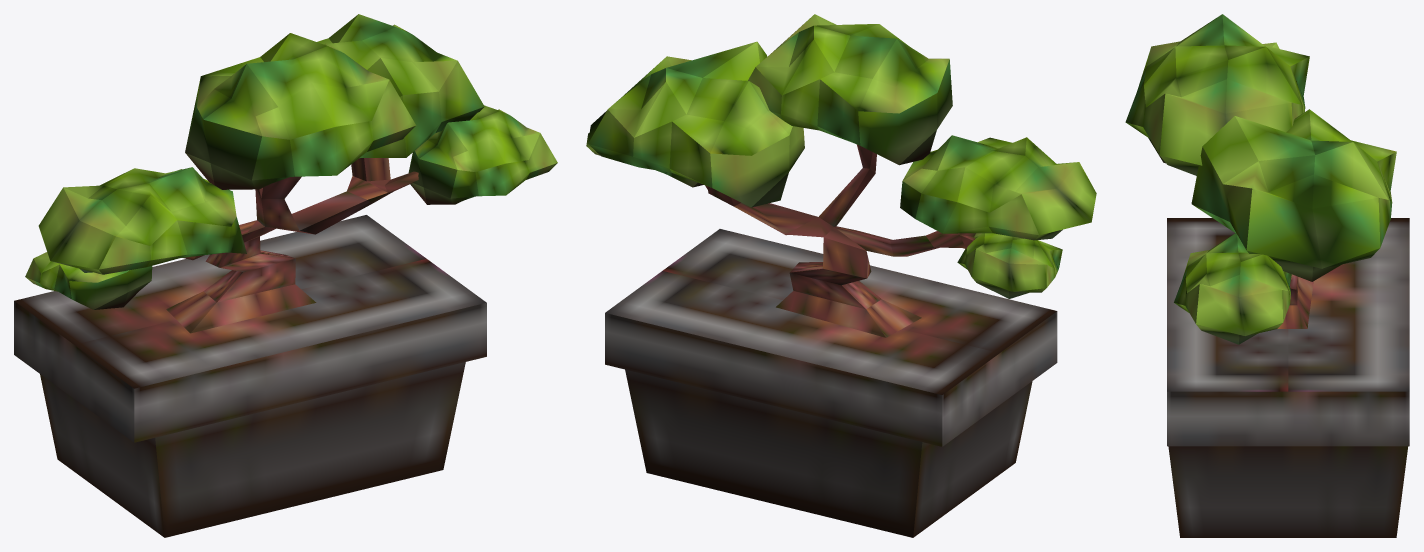
The model's file is Poly_SF_Outside_B_Planter_02.obj.
3 views of the same model, side by side, from view 1: azimuth 30°, elevation 25°; view 2: azimuth 150°, elevation 25°; view 3: azimuth 270°, elevation 25° (orthographic). The views are drawn at different scales.
Parts seen in each view (by area): view 1: Cube.006, Cube.003, Cube.002, Cube, Cube.005, Cube.007, Cube.004; view 2: Cube.006, Cube.005, Cube.003, Cube.002, Cube, Cube.004; view 3: Cube.006, Cube.005, Cube.003, Cube.007, Cube.
Boxes of the visible parts, bbox=[...] form: Cube.006: bbox=[14, 215, 486, 537]; Cube.003: bbox=[185, 33, 416, 189]; Cube.002: bbox=[38, 167, 246, 274]; Cube: bbox=[166, 158, 418, 333]; Cube.005: bbox=[317, 14, 484, 158]; Cube.007: bbox=[408, 105, 557, 204]; Cube.004: bbox=[25, 252, 152, 309]; Cube.006: bbox=[605, 229, 1057, 537]; Cube.005: bbox=[588, 41, 804, 207]; Cube.003: bbox=[748, 14, 952, 165]; Cube.002: bbox=[900, 135, 1096, 240]; Cube: bbox=[705, 144, 975, 337]; Cube.004: bbox=[957, 233, 1062, 298]; Cube.006: bbox=[1167, 218, 1409, 537]; Cube.005: bbox=[1191, 109, 1396, 281]; Cube.003: bbox=[1125, 14, 1309, 175]; Cube.007: bbox=[1174, 233, 1291, 344]; Cube: bbox=[1277, 274, 1313, 328].
Bounding box in the file's own units: 0.7327 × 0.5934 × 0.3492.
1 material, 1 textured.
